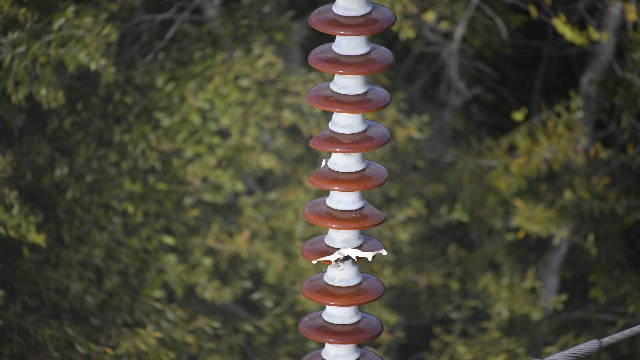broken_local: (312, 248, 389, 264), (307, 155, 328, 182)
insulator_unspecified: (297, 1, 395, 359)
